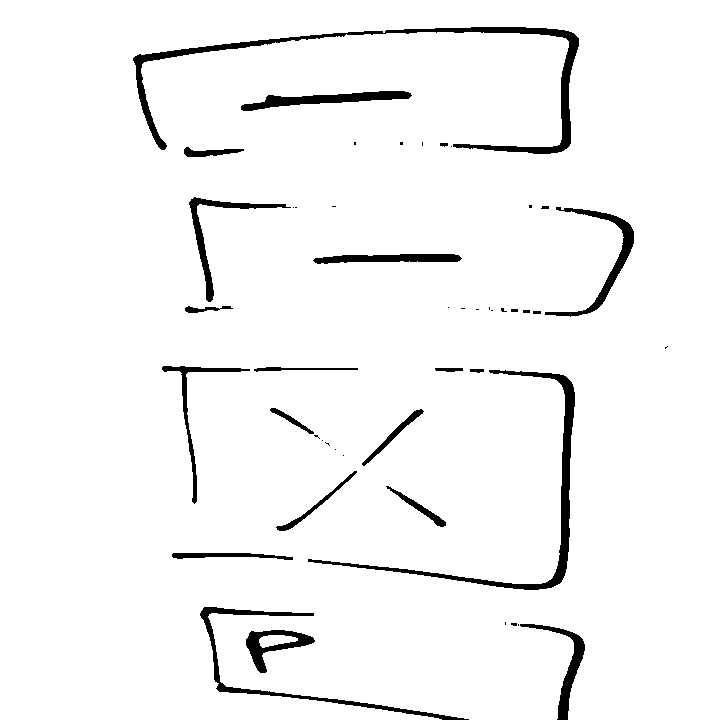button: (118, 22, 588, 169), (176, 187, 644, 333)
paragraph: (200, 601, 589, 720)
picture: (146, 355, 586, 588)
